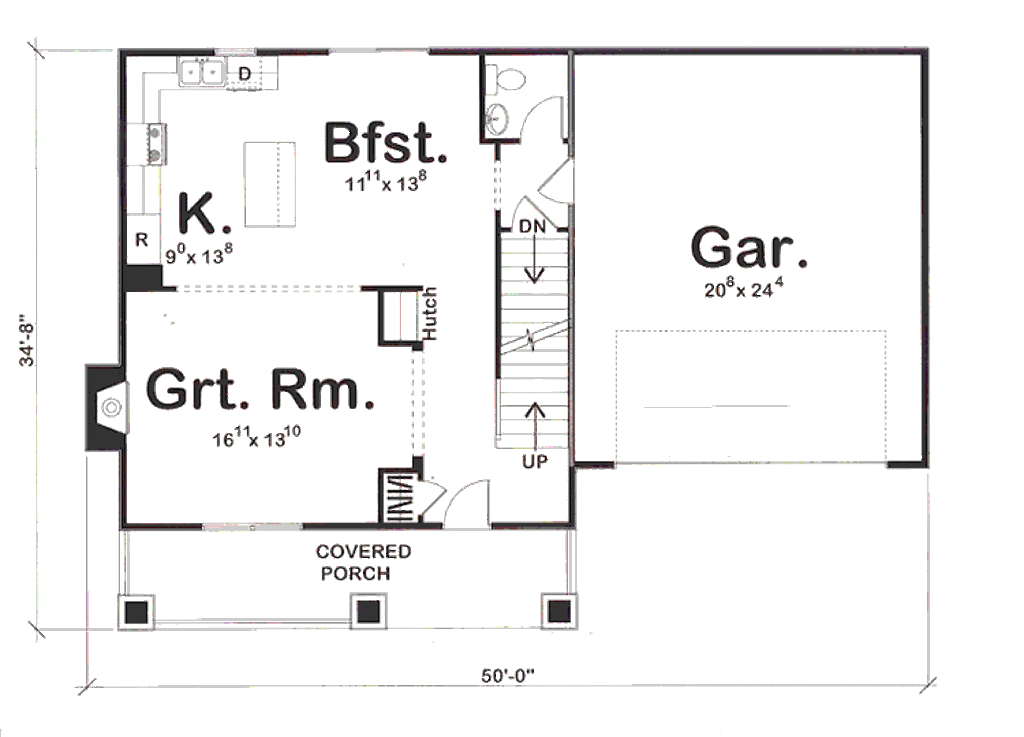door: (517, 93, 576, 147), (444, 474, 499, 527), (533, 150, 579, 204), (509, 196, 556, 227), (421, 477, 447, 525)
large_sink: (476, 57, 533, 102)
small_sink: (486, 99, 513, 136)
stairs: (486, 230, 580, 451)
twin_sink: (163, 53, 225, 90)
window: (203, 514, 306, 540), (328, 42, 431, 59)
